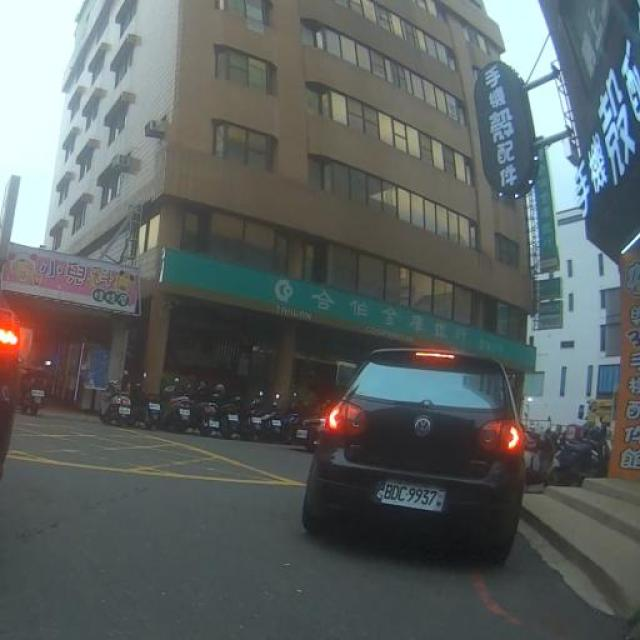Legalparking: (29, 361, 314, 442), (525, 407, 614, 498)
illegalparking: (302, 346, 524, 562)
